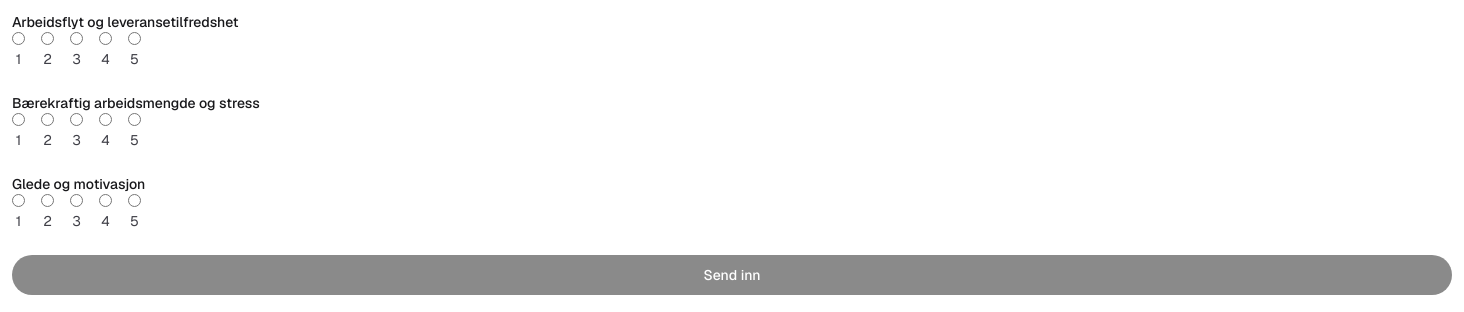
Test: SurveyResponseForm › disables submission until all three answers are selected
Expected: the button "Send inn" is disabled, x1=12 y1=255 x2=1452 y2=295
Click the radio button labelled "1" below "Arbeidsflyt og leveransetilfredshet" at (18, 38), box x1=12 y1=32 x2=25 y2=45
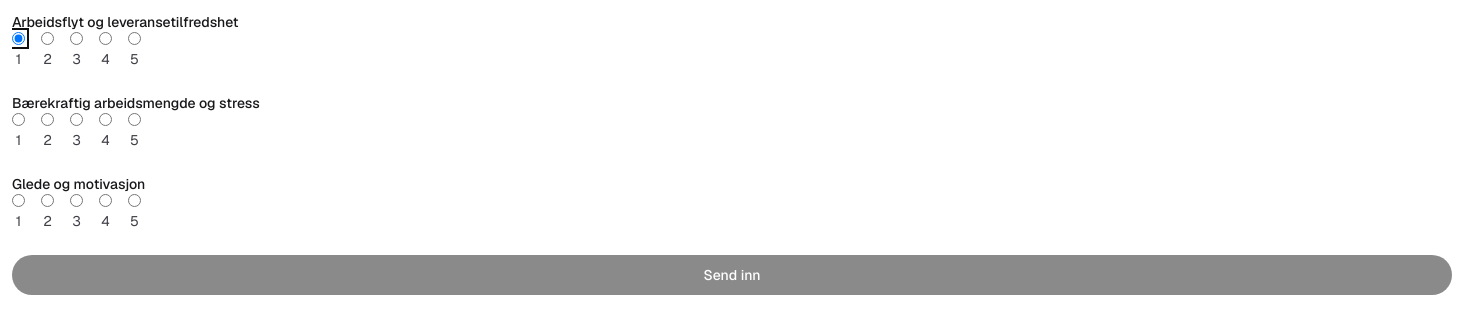
Expected: the button "Send inn" is disabled, x1=12 y1=255 x2=1452 y2=295
Click the radio button labelled "2" below "Bærekraftig arbeidsmengde og stress" at (48, 120), box x1=41 y1=113 x2=54 y2=126
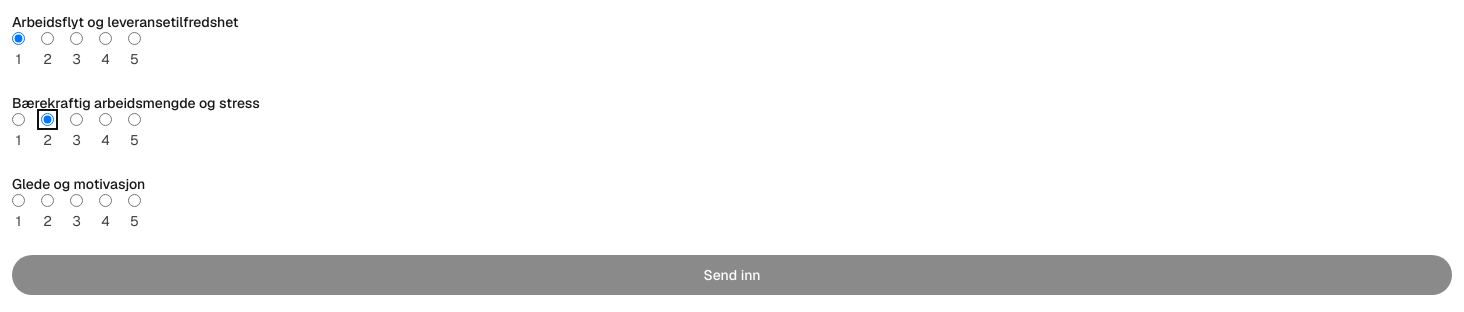
Expected: the button "Send inn" is disabled, x1=12 y1=255 x2=1452 y2=295
Click the radio button labelled "3" below "Glede og motivasjon" at (76, 200), box x1=70 y1=194 x2=83 y2=207
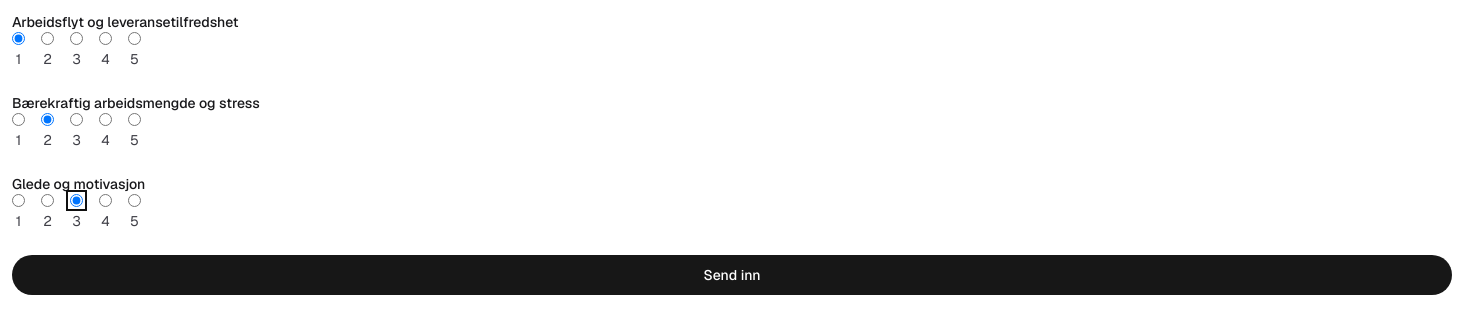
Expected: the button "Send inn" is enabled, x1=12 y1=255 x2=1452 y2=295
